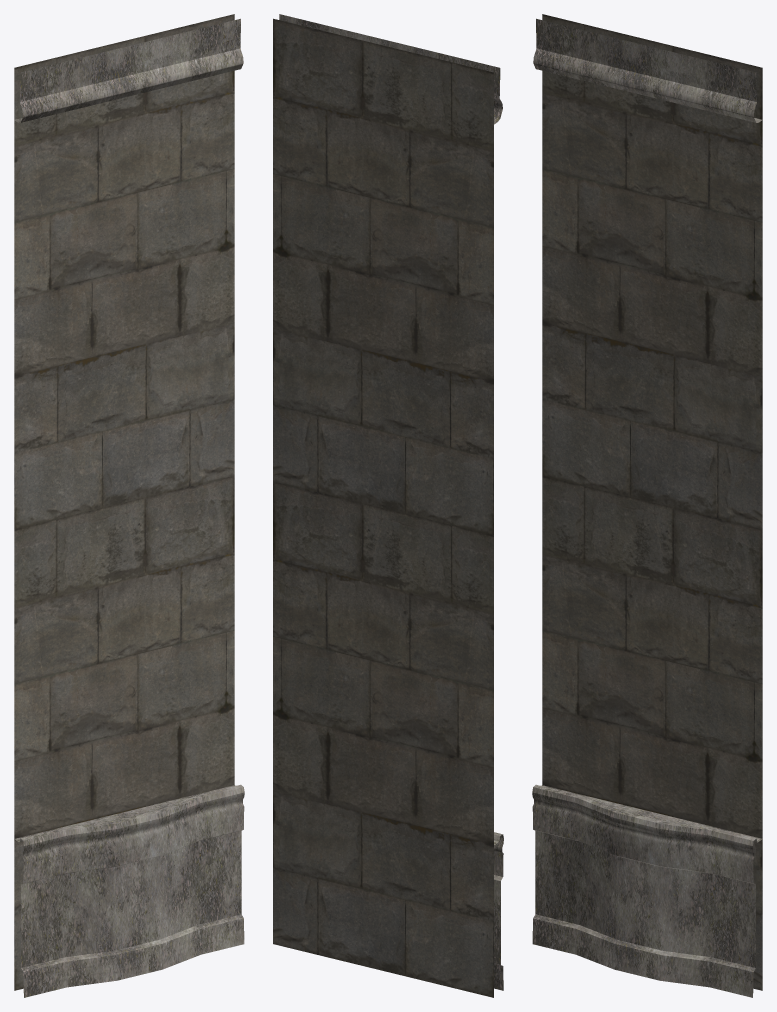
The model's file is SM_Wall_Stone_1m.fbx.
The picture shows the model from 3 angles, left to right: view 1: azimuth 30°, elevation 25°; view 2: azimuth 150°, elevation 25°; view 3: azimuth 330°, elevation 25°; orthographic projection.
Visible parts, largest first — view 1: SM_Wall_Stone_1m; view 2: SM_Wall_Stone_1m; view 3: SM_Wall_Stone_1m.
Part boxes in pixels (box(x1,y1,x2,y2)): SM_Wall_Stone_1m: box(14, 14, 244, 997); SM_Wall_Stone_1m: box(273, 14, 503, 997); SM_Wall_Stone_1m: box(532, 14, 762, 997).
Bounding box in the file's own units: 100 × 400 × 12.2.
